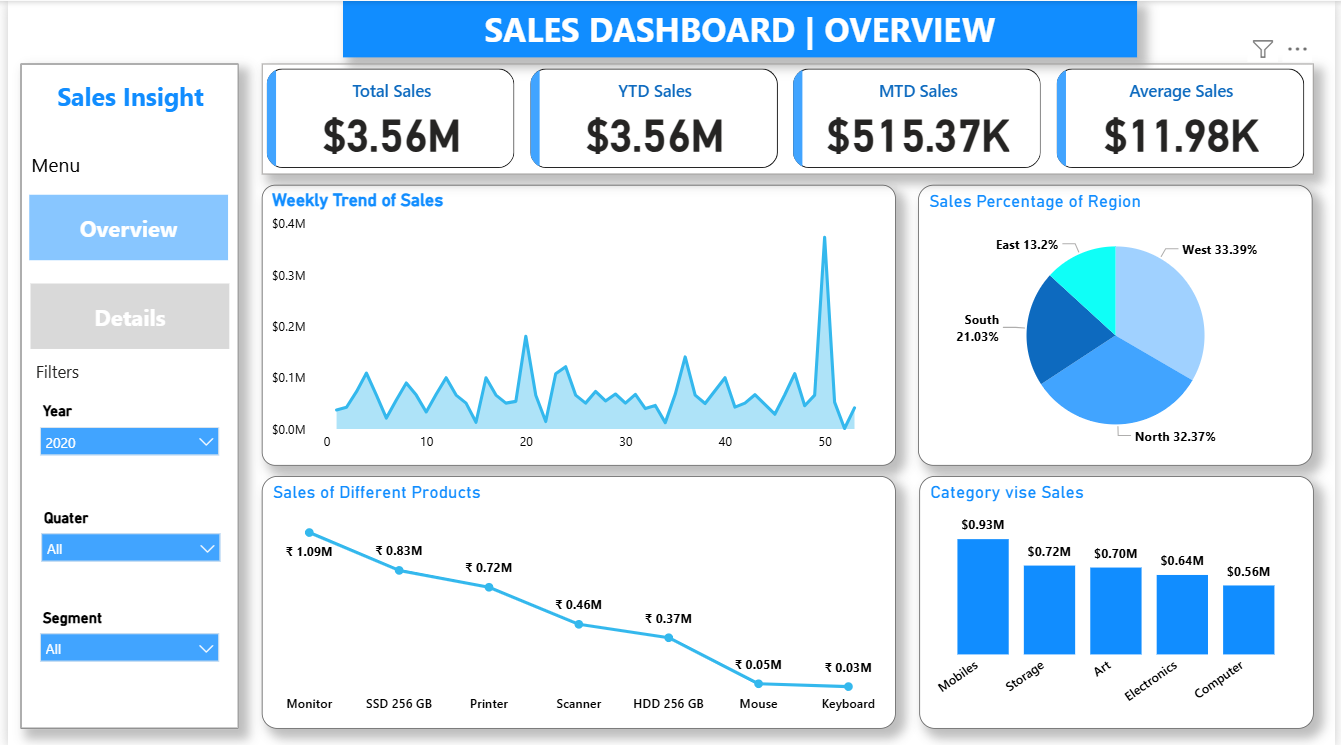

The page's visual inventory and layout, read from the dashboard file:
{"tool":"powerbi","page":{"name":"Sales","canvas":[1280,720],"ordinal":1},"visuals":[{"type":"textbox","box":[323.2,0,568.4,54.8],"z":0},{"type":"shape","box":[11.5,60.6,210.6,642],"z":1000},{"type":"textbox","box":[43.3,70.7,147.2,51.9],"z":2000},{"type":"actionButton","box":[20.2,187.6,191.9,63.5],"z":3000},{"type":"actionButton","box":[21.6,272.7,191.9,63.5],"z":4000},{"type":"textbox","box":[0,139.9,92.3,37.5],"z":5000},{"type":"cardVisual","fields":{"Data":["Sheet1.Total_Sales","Sheet1.YTD_sales","Sheet1.MTD_sales","Sheet1.AVG_SALES"]},"box":[245.3,60.6,1014.3,98.1],"z":6000},{"type":"areaChart","title":"Weekly Trend of Sales","fields":{"Y":["Sheet1.Total Sales"],"Category":["Calendar_date.Weeknum"]},"box":[245.3,177.5,611.7,271.2],"z":7000},{"type":"pieChart","title":"Sales Percentage of Region","fields":{"Category":["Sheet1.Region"],"Y":["Sheet1.Total Sales"]},"box":[878.6,177.5,380.9,271.2],"z":8000},{"type":"lineChart","title":"Sales of Different Products","fields":{"Category":["Sheet1.Product"],"Y":["Sheet1.Total Sales"]},"box":[245.3,458.8,611.7,243.8],"z":9000},{"type":"columnChart","title":"Category vise Sales","fields":{"Category":["Sheet1.usage"],"Y":["Sheet1.Total Sales"]},"box":[879,459,381,244],"z":10000},{"type":"slicer","fields":{"Values":["Calendar_date.Year"]},"box":[20.2,382.3,193.3,108.2],"z":11000},{"type":"slicer","fields":{"Values":["Calendar_date.Quater"]},"box":[21.6,484.8,193.3,102.4],"z":12000},{"type":"slicer","fields":{"Values":["Sheet1.Custom"]},"box":[20.2,581.4,193.3,76.5],"z":13000},{"type":"textbox","box":[21.6,341.9,70.7,40.4],"z":14000}]}

Visuals, with their boxes in screenshot pixels (x1, y1, x2, y2), scaled from the page's 1280x720 canvas onto the 1341x745 screenshot:
textbox: 339/0/934/57
shape: 12/63/233/727
textbox: 45/73/200/127
actionButton: 21/194/222/260
actionButton: 23/282/224/348
textbox: 0/145/97/184
cardVisual - Sheet1.Total_Sales x Sheet1.YTD_sales: 257/63/1320/164
"Weekly Trend of Sales" areaChart: 257/184/898/464
"Sales Percentage of Region" pieChart: 920/184/1320/464
"Sales of Different Products" lineChart: 257/475/898/727
"Category vise Sales" columnChart: 921/475/1320/727
slicer - Calendar_date.Year: 21/396/224/508
slicer - Calendar_date.Quater: 23/502/225/608
slicer - Sheet1.Custom: 21/602/224/681
textbox: 23/354/97/396
